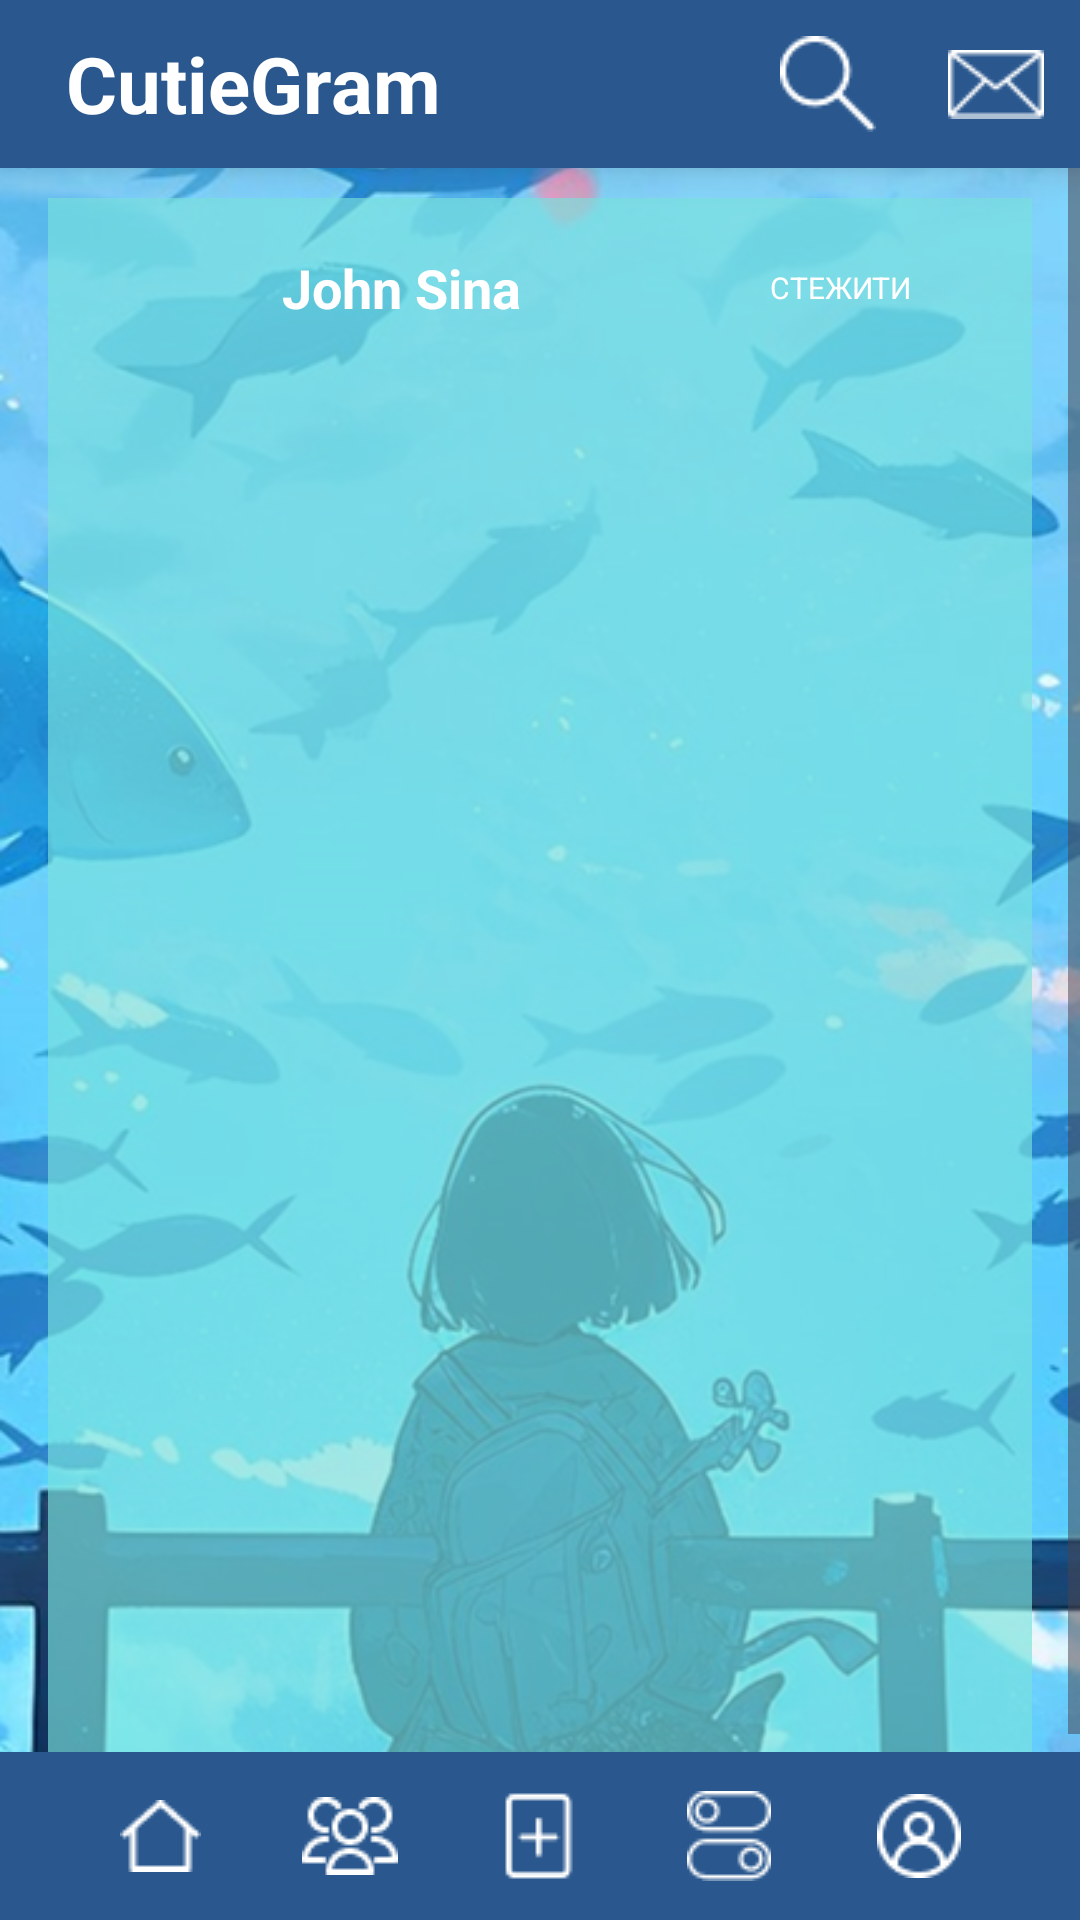

Locate icon controls on the screen. Image size 1080 x 1920, boxes as region(x1, y1, x2, y2).
add: region(505, 1793, 573, 1879)
home: region(120, 1800, 201, 1872)
mail: region(948, 50, 1044, 119)
profile: region(877, 1794, 961, 1878)
search: region(780, 36, 876, 132)
toggle: region(687, 1791, 771, 1881)
users: region(302, 1797, 398, 1875)
